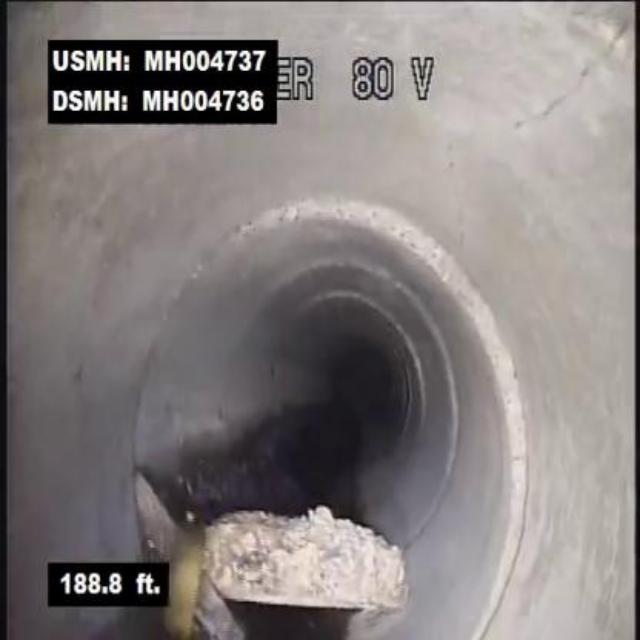Obstacle: (172, 463, 425, 638)
